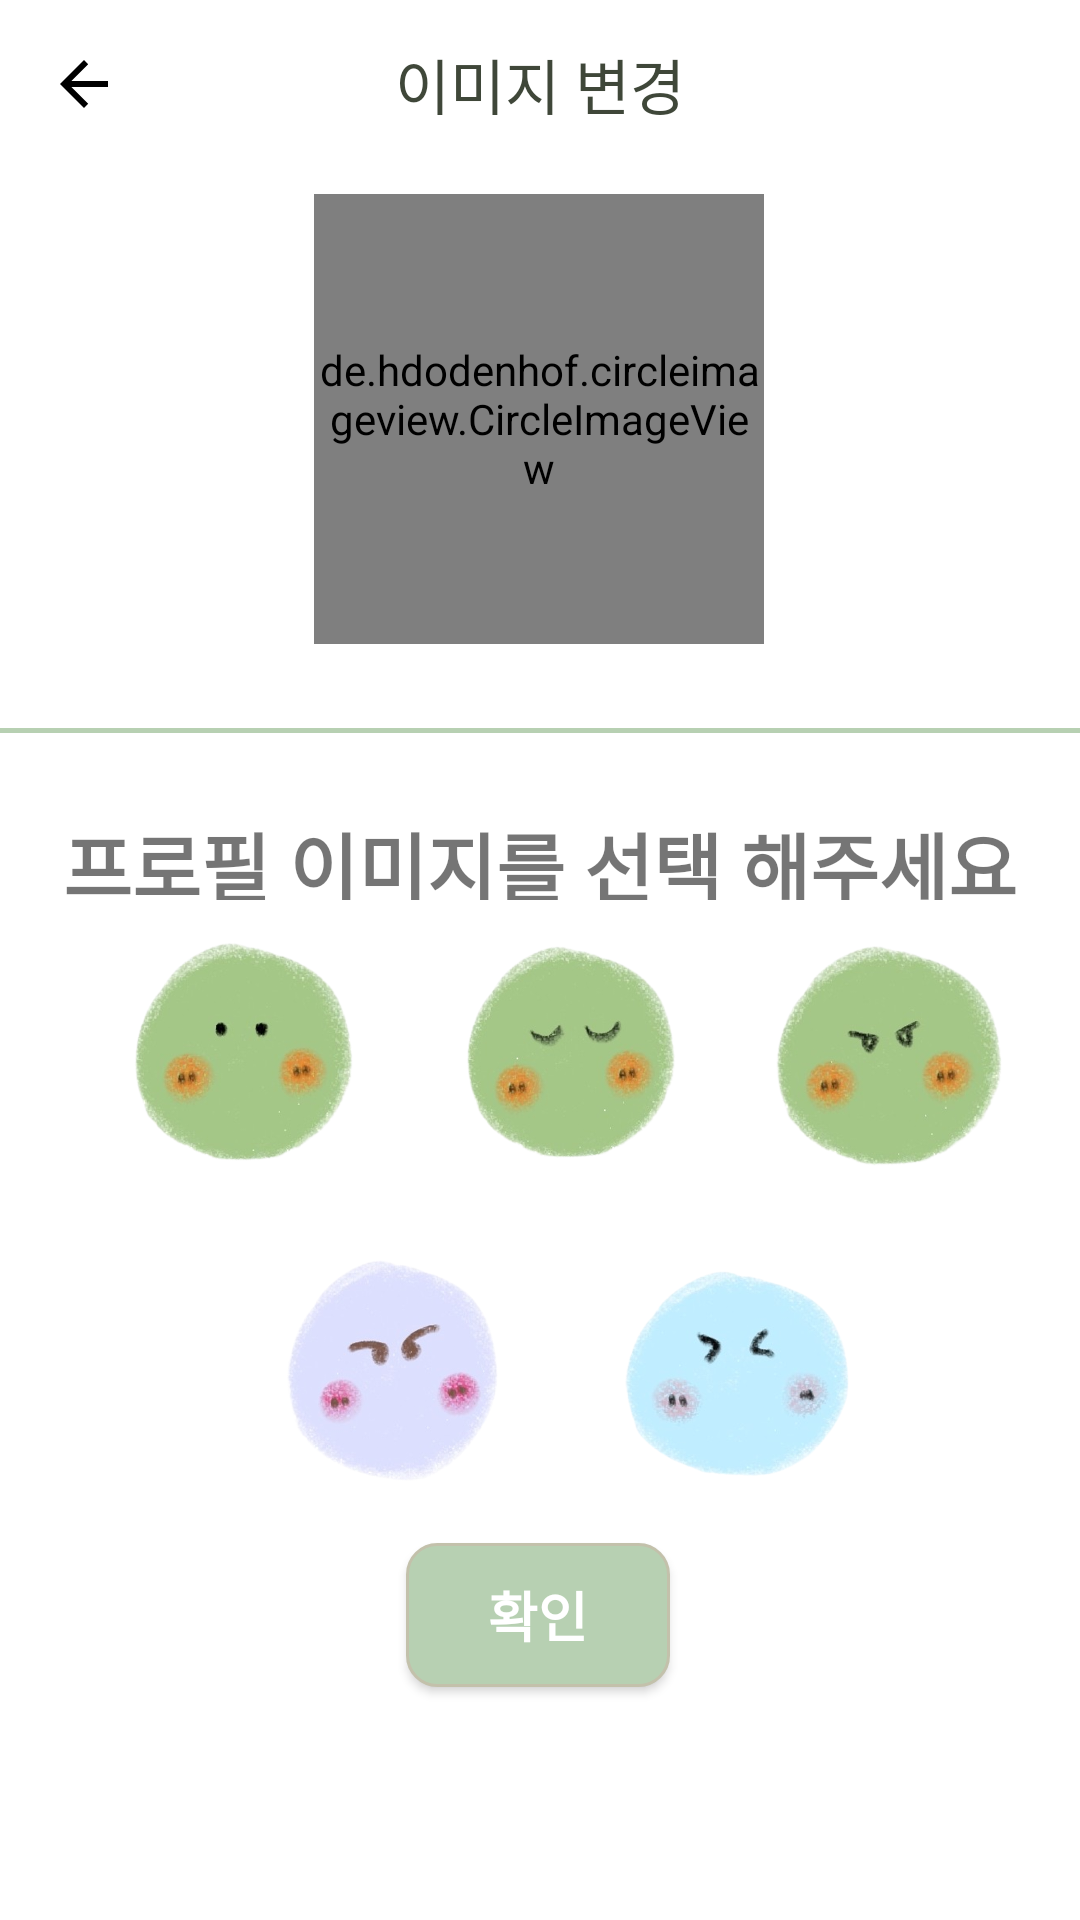

Screen size 1080px x 1920px. Icon name, then its box in pixels as (x1, y1, x2, y2):
profile an: (777, 947, 1001, 1164)
profile grap: (289, 1266, 495, 1473)
profile slow: (468, 947, 674, 1157)
